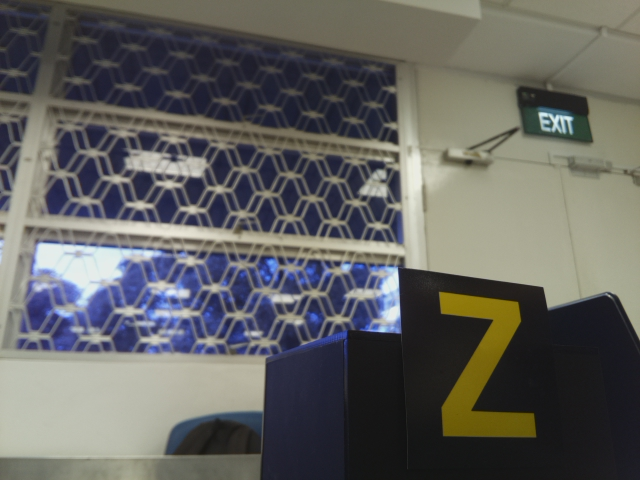z: (427, 281, 540, 445)
